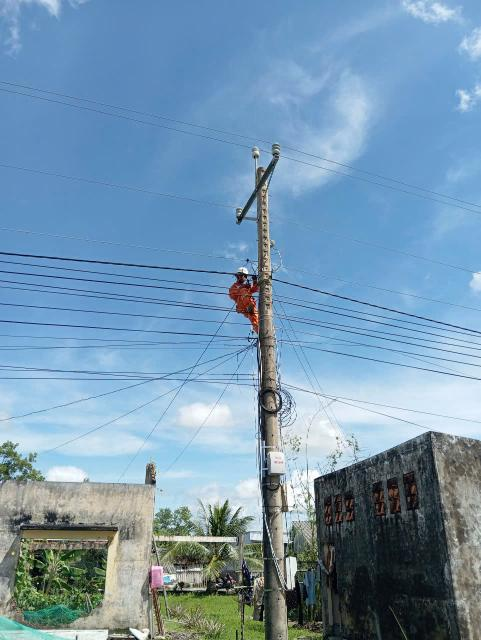gloves: (239, 284, 253, 291), (252, 273, 259, 282)
helmet: (235, 265, 248, 278)
shoes: (247, 301, 257, 314)
